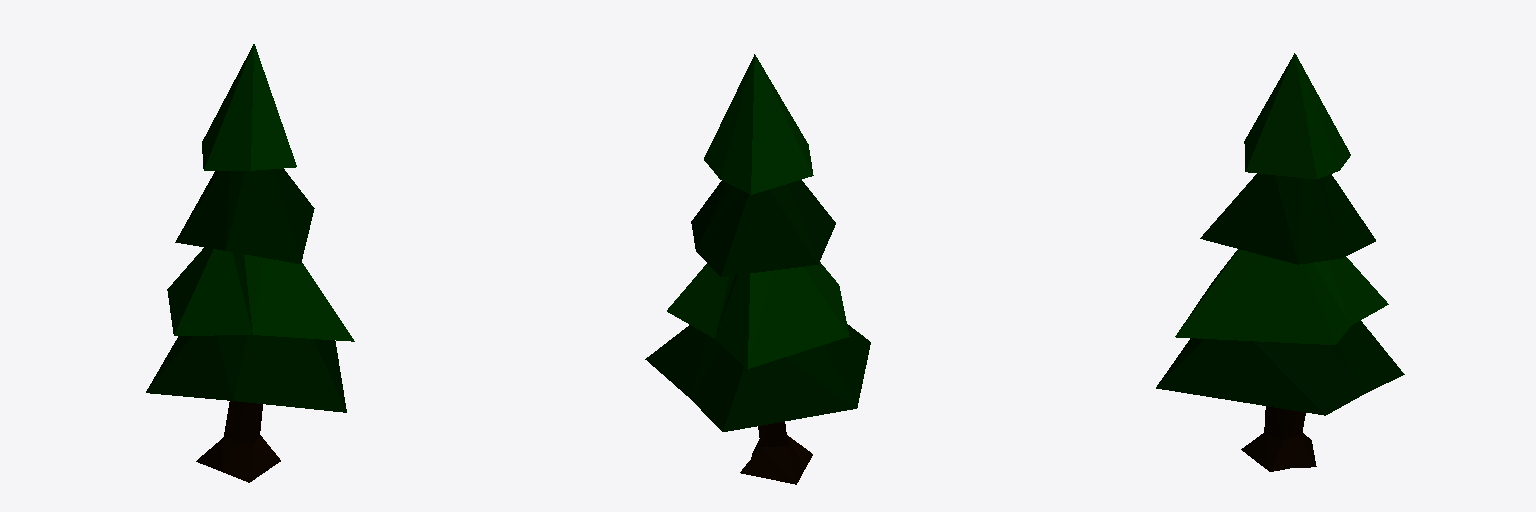
Rendered from tree2.obj.
The picture shows the model from 3 angles: view 1: azimuth 30°, elevation 25°; view 2: azimuth 150°, elevation 25°; view 3: azimuth 270°, elevation 25°; orthographic projection.
Visible parts, largest first — view 1: Cube; view 2: Cube; view 3: Cube.
Part boxes in pixels (x1,y1,x2,y2): Cube: (146,44,354,482); Cube: (645,54,870,484); Cube: (1156,53,1404,471).
Bounding box in the file's own units: 3.14 × 6.19 × 3.39.